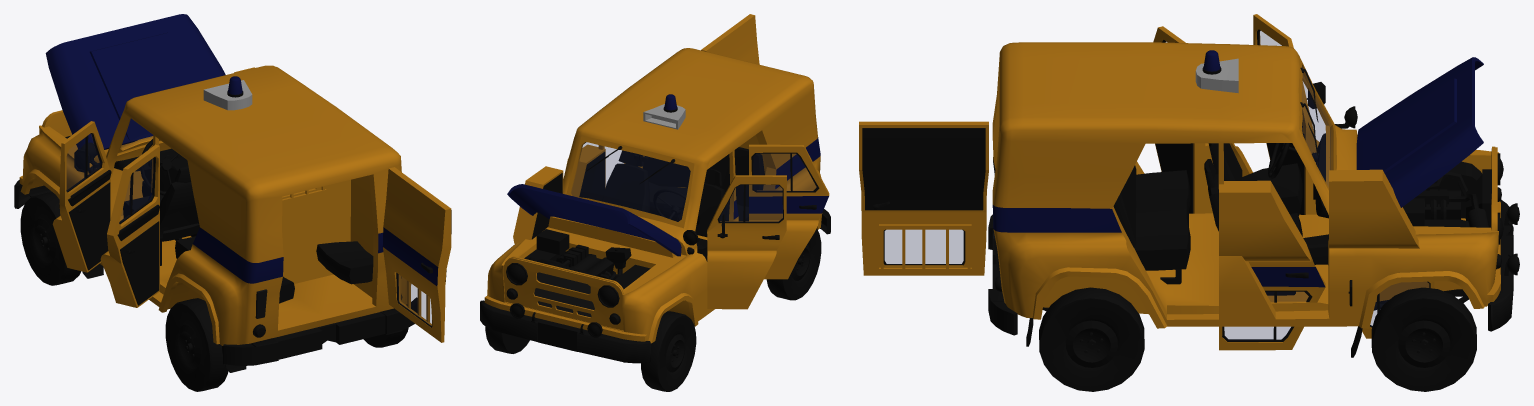
The model's file is UAZ.FBX.
The picture shows the model from 3 angles, left to right: view 1: azimuth 30°, elevation 25°; view 2: azimuth 150°, elevation 25°; view 3: azimuth 270°, elevation 25°; orthographic projection. The views are drawn at different scales.
Parts seen in each view (by area): view 1: UAZ_body_01, UAZ_capot_01, door_back_01, Door_uaz_type2_01, Door_uaz_01, UAZ_wheel_type1_017, UAZ_wheel_type1_002, UAZ_Window_01, UAZ_wheel_type1_018, Uaz_steering_Wheel_01; view 2: UAZ_body_01, UAZ_Window_01, Door_uaz_01, Door_uaz_type2_01, UAZ_capot_01, UAZ_wheel_type1_002, Box10017, UAZ_wheel_type1_017, door_back_01, Door_uaz_003, Door_uaz_type2_005, UAZ_wheel_type1_019 (+1 smaller); view 3: UAZ_body_01, door_back_01, UAZ_capot_01, Door_uaz_type2_005, UAZ_wheel_type1_018, UAZ_wheel_type1_019, Door_uaz_003, Box10017, UAZ_Window_01, Door_uaz_type2_01, Door_uaz_01.
Part boxes in pixels (bbox=[...]): UAZ_body_01: bbox=[14, 65, 417, 372]; UAZ_capot_01: bbox=[45, 14, 225, 155]; door_back_01: bbox=[382, 167, 451, 342]; Door_uaz_type2_01: bbox=[100, 144, 159, 307]; Door_uaz_01: bbox=[52, 121, 111, 272]; UAZ_wheel_type1_017: bbox=[165, 298, 228, 391]; UAZ_wheel_type1_002: bbox=[20, 192, 80, 285]; UAZ_Window_01: bbox=[80, 76, 252, 168]; UAZ_wheel_type1_018: bbox=[363, 327, 408, 347]; Uaz_steering_Wheel_01: bbox=[140, 139, 178, 195]; UAZ_body_01: bbox=[480, 48, 830, 363]; UAZ_Window_01: bbox=[566, 94, 699, 245]; Door_uaz_01: bbox=[707, 175, 786, 309]; Door_uaz_type2_01: bbox=[749, 144, 829, 279]; UAZ_capot_01: bbox=[507, 184, 681, 256]; UAZ_wheel_type1_002: bbox=[641, 311, 696, 391]; Box10017: bbox=[524, 229, 650, 289]; UAZ_wheel_type1_017: bbox=[766, 228, 821, 300]; door_back_01: bbox=[701, 14, 759, 64]; Door_uaz_003: bbox=[513, 166, 563, 243]; Door_uaz_type2_005: bbox=[566, 144, 605, 201]; UAZ_wheel_type1_019: bbox=[485, 326, 529, 353]; UAZ_body_01: bbox=[988, 42, 1519, 357]; door_back_01: bbox=[859, 121, 988, 275]; UAZ_capot_01: bbox=[1356, 57, 1483, 207]; Door_uaz_type2_005: bbox=[1219, 180, 1325, 350]; UAZ_wheel_type1_018: bbox=[1039, 287, 1144, 391]; UAZ_wheel_type1_019: bbox=[1371, 287, 1476, 391]; Door_uaz_003: bbox=[1329, 169, 1434, 338]; Box10017: bbox=[1403, 161, 1491, 227]; UAZ_Window_01: bbox=[1195, 50, 1357, 190]; Door_uaz_type2_01: bbox=[1153, 26, 1212, 213]; Door_uaz_01: bbox=[1253, 14, 1325, 214].
Size of the model in its own units: 250 by 484 by 231.
